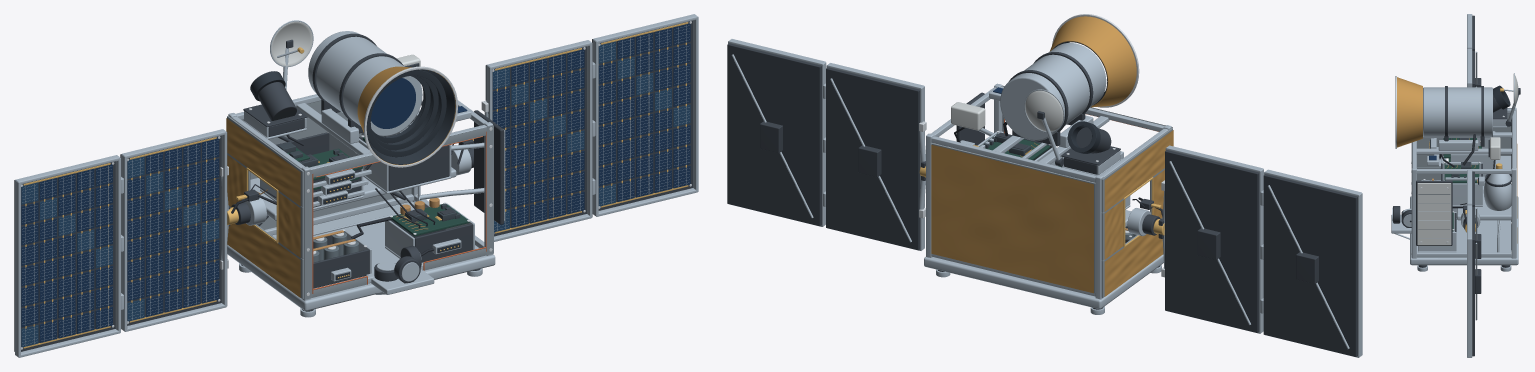
File: satellite.glb
3 views of the same model, side by side, from view 1: azimuth 30°, elevation 25°; view 2: azimuth 150°, elevation 25°; view 3: azimuth 270°, elevation 25° (orthographic). The views are drawn at different scales.
Parts seen in each view (by area): view 1: SolarArrayLeft — Blue photovoltaic cells, SolarArrayRight — Blue photovoltaic cells, SolarArrayLeft — Machined satin aluminum, SolarArrayRight — Machined satin aluminum, Structure — Machined satin aluminum, Structure — Representative MLI outer layer, SolarArrayLeft — Anodized chassis, SolarArrayRight — Anodized chassis, Structure — MLI inner layer, Payload — Machined satin aluminum, Payload — Optical and connector recess, SolarArrayLeft — Photovoltaic cell variation (+24 smaller); view 2: SolarArrayLeft — Anodized chassis, SolarArrayRight — Anodized chassis, Structure — Representative MLI outer layer, Structure — Machined satin aluminum, Payload — Machined satin aluminum, SolarArrayLeft — Machined satin aluminum, Payload — Representative MLI outer layer, SolarArrayRight — Machined satin aluminum, Links — White antenna and terminal finish, Structure — MLI inner layer, Attitude — Anodized chassis, Payload — Anodized chassis (+3 smaller); view 3: Structure — Machined satin aluminum, Payload — Machined satin aluminum, Radiator — Radiator coating, Payload — Representative MLI outer layer, Computer — Machined satin aluminum, SolarArrayRight — Machined satin aluminum, Propulsion — Machined satin aluminum, Structure — MLI inner layer, SolarArrayRight — Anodized chassis, SolarArrayLeft — Machined satin aluminum, Radiator — Anodized chassis, Links — White antenna and terminal finish (+13 smaller).
Boxes of the visible parts, x1=… form: SolarArrayLeft — Blue photovoltaic cells: x1=21, y1=138, x2=219, y2=342; SolarArrayRight — Blue photovoltaic cells: x1=492, y1=23, x2=690, y2=227; SolarArrayLeft — Machined satin aluminum: x1=15, y1=129, x2=227, y2=357; SolarArrayRight — Machined satin aluminum: x1=486, y1=14, x2=698, y2=241; Structure — Machined satin aluminum: x1=227, y1=94, x2=495, y2=310; Structure — Representative MLI outer layer: x1=226, y1=118, x2=300, y2=297; SolarArrayLeft — Anodized chassis: x1=14, y1=135, x2=221, y2=351; SolarArrayRight — Anodized chassis: x1=485, y1=20, x2=692, y2=236; Structure — MLI inner layer: x1=227, y1=101, x2=493, y2=299; Payload — Machined satin aluminum: x1=296, y1=31, x2=422, y2=154; Payload — Optical and connector recess: x1=366, y1=69, x2=455, y2=164; SolarArrayLeft — Photovoltaic cell variation: x1=21, y1=156, x2=219, y2=347; SolarArrayLeft — Anodized chassis: x1=1165, y1=150, x2=1357, y2=356; SolarArrayRight — Anodized chassis: x1=727, y1=43, x2=920, y2=250; Structure — Representative MLI outer layer: x1=931, y1=130, x2=1173, y2=296; Structure — Machined satin aluminum: x1=924, y1=83, x2=1171, y2=309; Payload — Machined satin aluminum: x1=993, y1=43, x2=1109, y2=164; SolarArrayLeft — Machined satin aluminum: x1=1165, y1=145, x2=1362, y2=357; Payload — Representative MLI outer layer: x1=1049, y1=16, x2=1136, y2=107; SolarArrayRight — Machined satin aluminum: x1=728, y1=39, x2=924, y2=250; Links — White antenna and terminal finish: x1=951, y1=90, x2=1063, y2=131; Structure — MLI inner layer: x1=931, y1=85, x2=1172, y2=297; Attitude — Anodized chassis: x1=1061, y1=127, x2=1120, y2=174; Payload — Anodized chassis: x1=1009, y1=52, x2=1093, y2=146; Structure — Machined satin aluminum: x1=1410, y1=107, x2=1518, y2=265; Payload — Machined satin aluminum: x1=1416, y1=87, x2=1511, y2=154; Radiator — Radiator coating: x1=1417, y1=183, x2=1451, y2=245; Payload — Representative MLI outer layer: x1=1397, y1=77, x2=1422, y2=147; Computer — Machined satin aluminum: x1=1430, y1=131, x2=1495, y2=206; SolarArrayRight — Machined satin aluminum: x1=1467, y1=170, x2=1477, y2=357; Propulsion — Machined satin aluminum: x1=1417, y1=168, x2=1511, y2=271; Structure — MLI inner layer: x1=1411, y1=108, x2=1511, y2=257; SolarArrayRight — Anodized chassis: x1=1472, y1=171, x2=1481, y2=356; SolarArrayLeft — Machined satin aluminum: x1=1467, y1=14, x2=1477, y2=87; Radiator — Anodized chassis: x1=1416, y1=180, x2=1452, y2=245; Links — White antenna and terminal finish: x1=1490, y1=74, x2=1518, y2=159.
Bounding box in the file's own units: 11.02 × 3.8 × 2.68.
